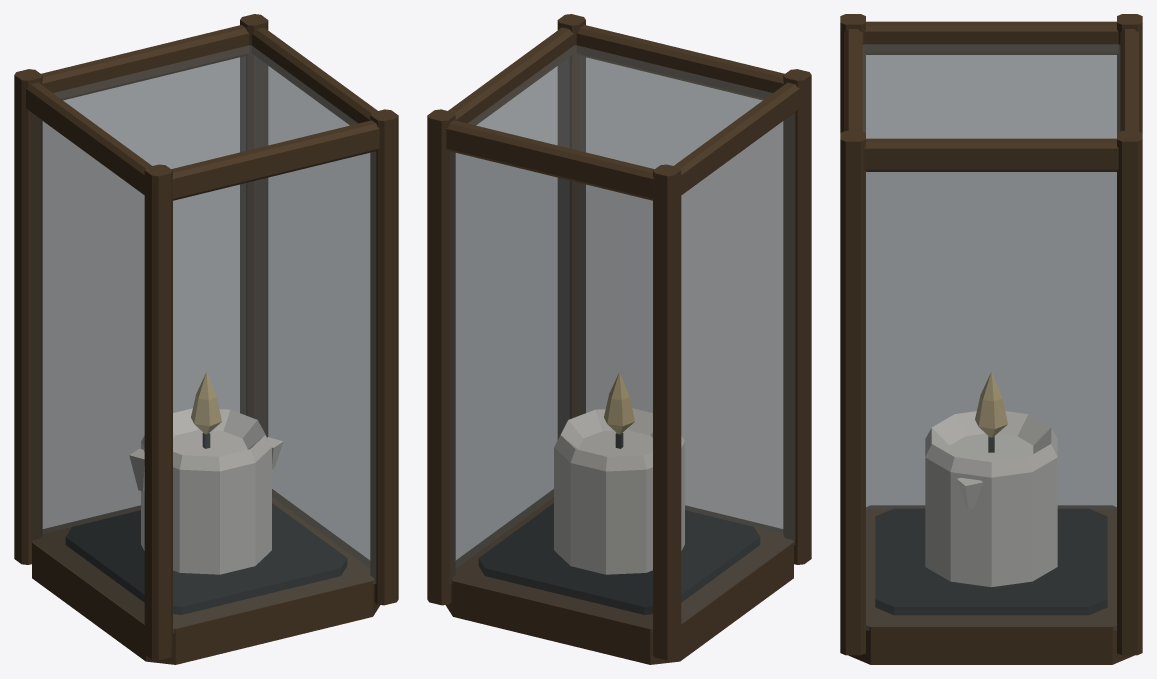
Rendered from candle.glb.
The picture shows the model from 3 angles, left to right: view 1: azimuth 30°, elevation 25°; view 2: azimuth 150°, elevation 25°; view 3: azimuth 270°, elevation 25°; orthographic projection. The views are drawn at different scales.
Parts seen in each view (by area): view 1: glazing, table-candle-lantern, candle, flame; view 2: glazing, table-candle-lantern, candle, flame; view 3: glazing, table-candle-lantern, candle, flame.
Part boxes in pixels (bbox=[...]): glazing: bbox=[31, 45, 375, 632]; table-candle-lantern: bbox=[14, 14, 398, 664]; candle: bbox=[129, 408, 283, 574]; flame: bbox=[191, 372, 221, 433]; glazing: bbox=[450, 45, 794, 632]; table-candle-lantern: bbox=[427, 14, 811, 664]; candle: bbox=[554, 408, 684, 574]; flame: bbox=[604, 372, 634, 433]; glazing: bbox=[863, 44, 1119, 630]; table-candle-lantern: bbox=[840, 14, 1142, 664]; candle: bbox=[925, 411, 1057, 587]; flame: bbox=[975, 372, 1007, 437].
Bounding box in the file's own units: 0.13 × 0.2499 × 0.13.
